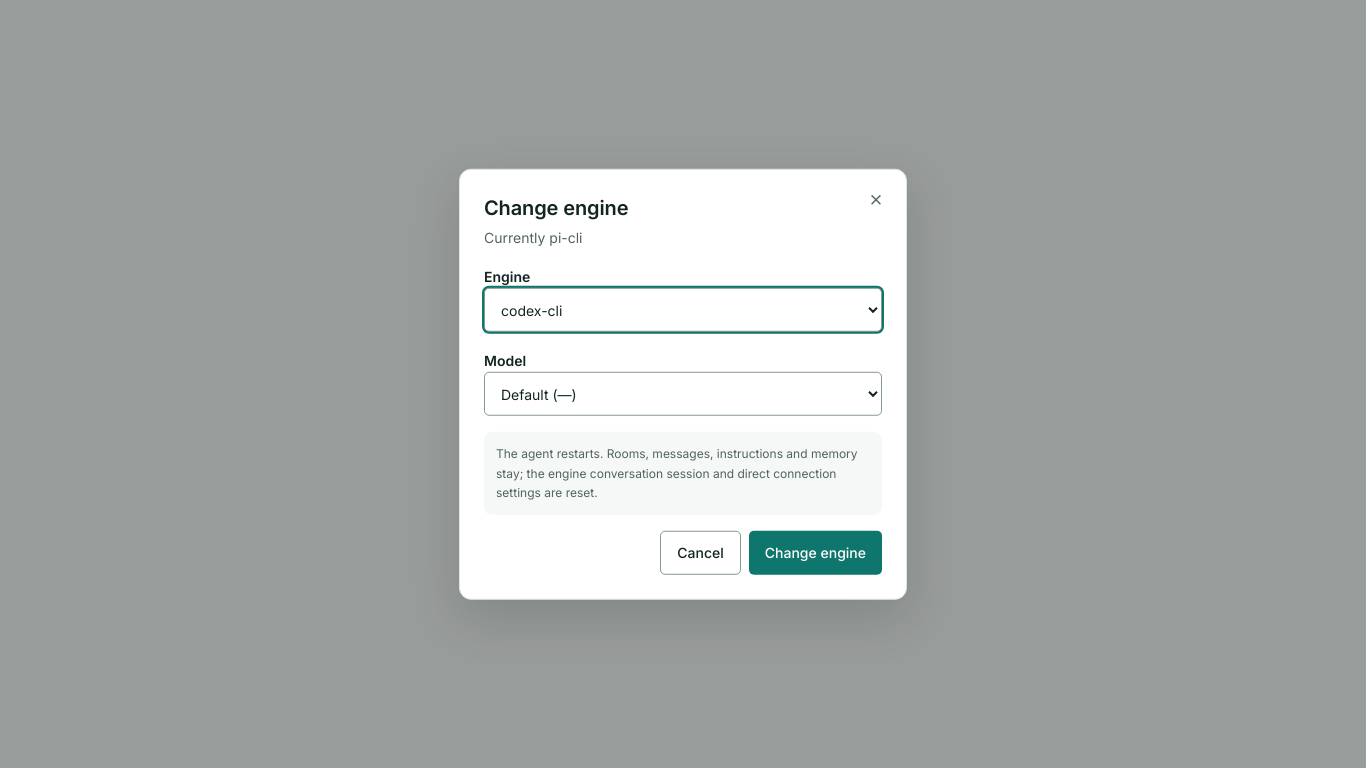
Test: EngineChangeDialog (#769) › keeps the dialog open and shows the server error
Click the button with test id "engine-change-submit": (815,552) 749,530 -> 882,574
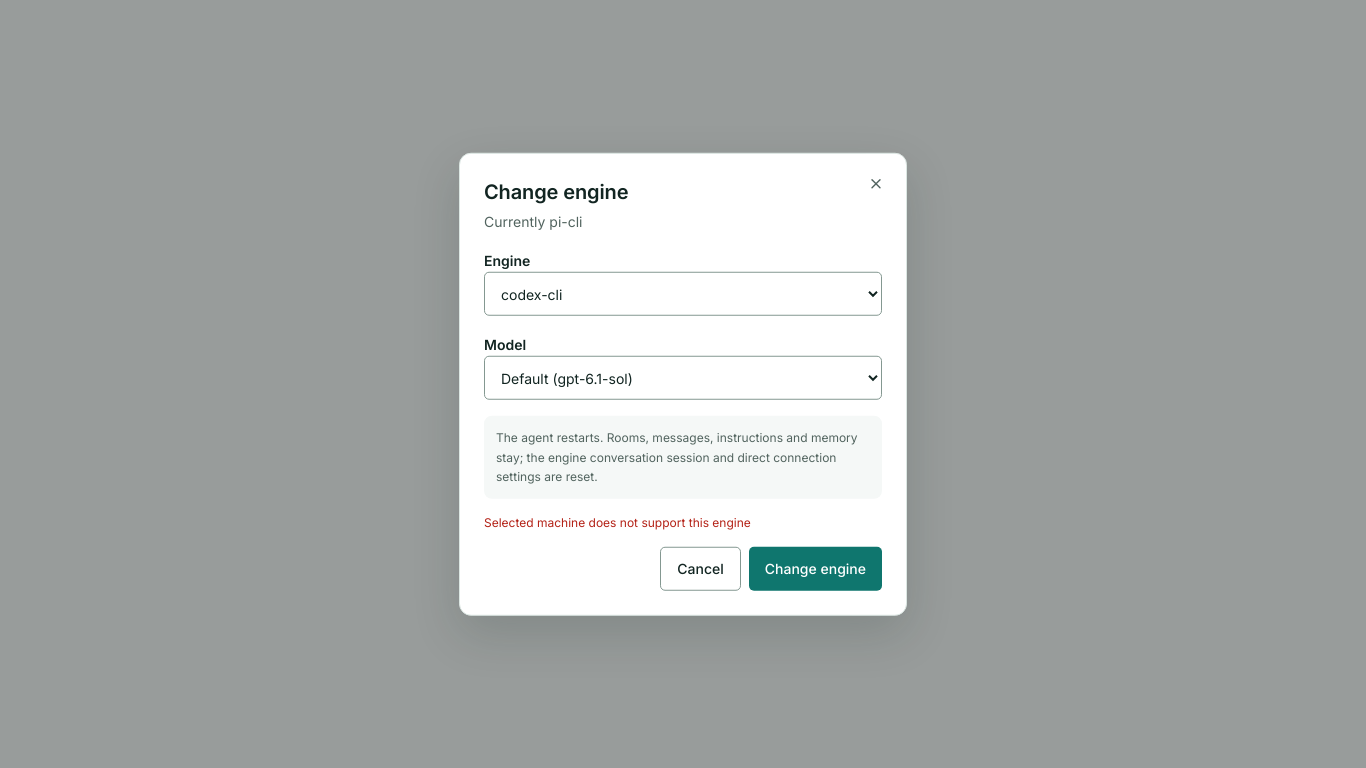
Now the message shows "does not support", box 484,514 -> 751,529
